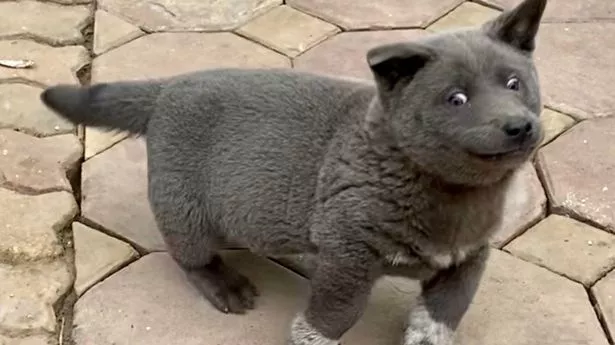dog: (38, 1, 545, 345)
